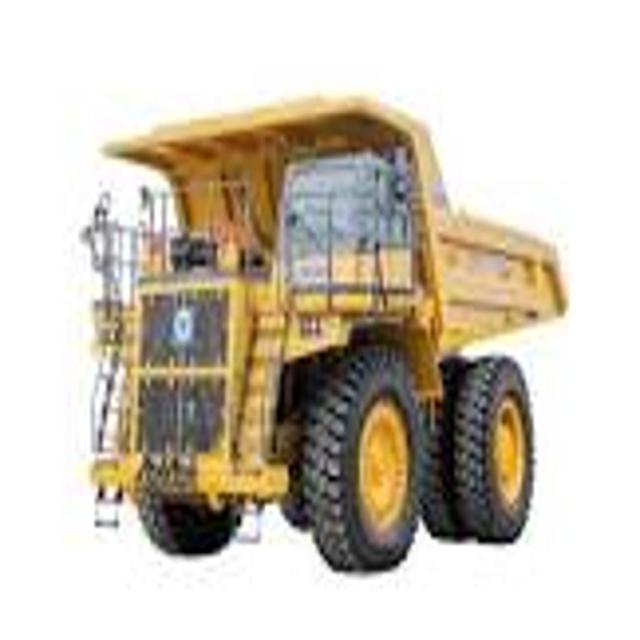dump_truck: (81, 84, 571, 577)
